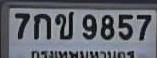5: (118, 13, 132, 39)
7: (14, 12, 29, 39), (136, 14, 150, 40)
8: (100, 14, 113, 39)
9: (82, 13, 96, 39)
A01: (33, 13, 50, 39)
A10: (54, 10, 73, 39)
